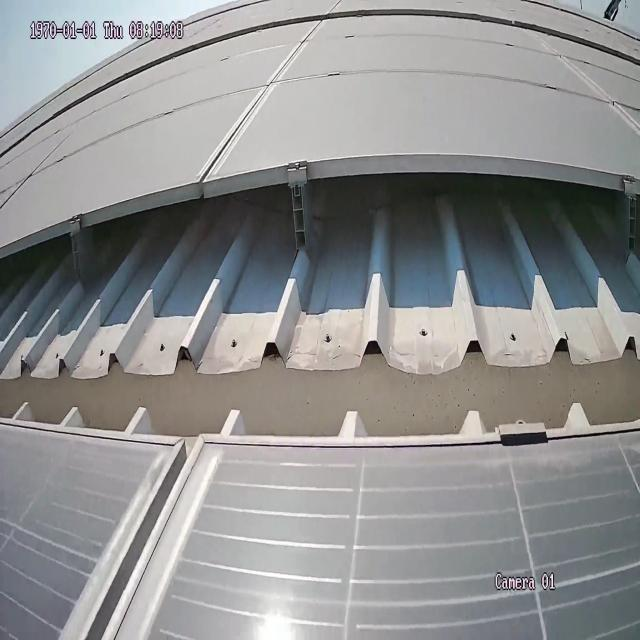interior panel: (55, 449, 211, 640), (199, 27, 322, 170), (538, 43, 640, 133)
outher panel: (4, 156, 638, 446)
